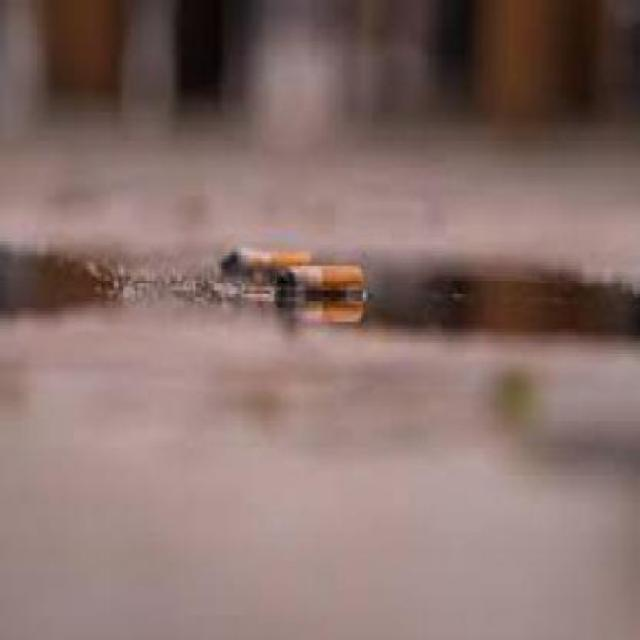cigarette: (256, 268, 389, 312), (204, 245, 342, 266)
